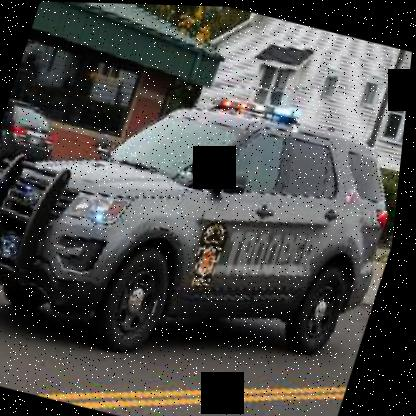emergency: (0, 39, 412, 409)
